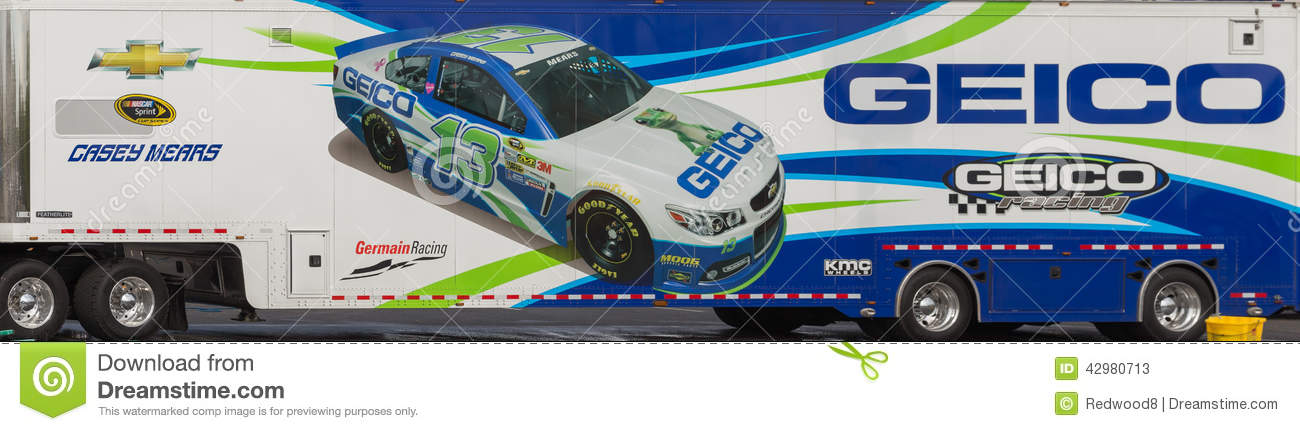Geico: (821, 43, 1295, 130), (940, 159, 1188, 213), (670, 114, 767, 205), (337, 67, 424, 119)
